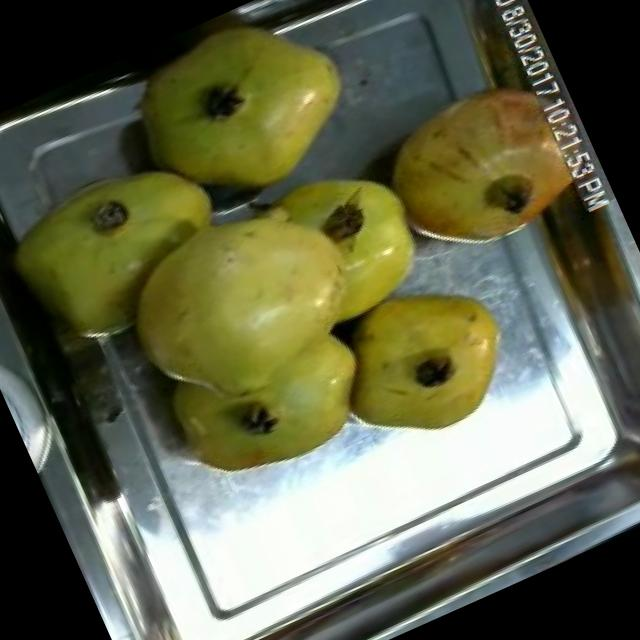fruit: (87, 0, 389, 247), (136, 268, 400, 506), (358, 48, 608, 280), (322, 255, 540, 462)
